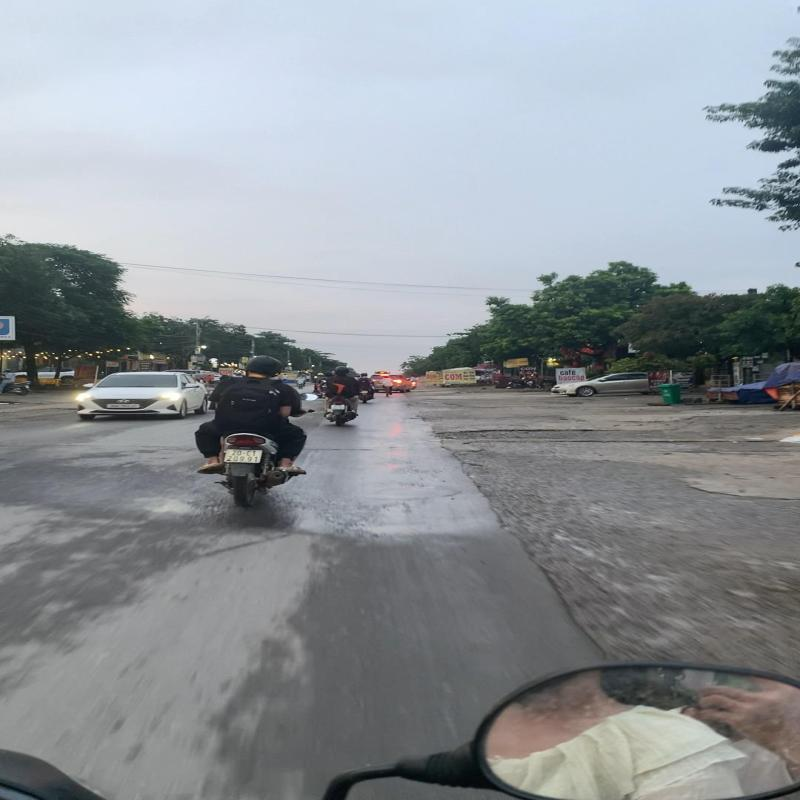helmet: (241, 353, 283, 378)
licenseplate: (221, 447, 266, 464)
motorcyclist: (189, 352, 318, 508)
